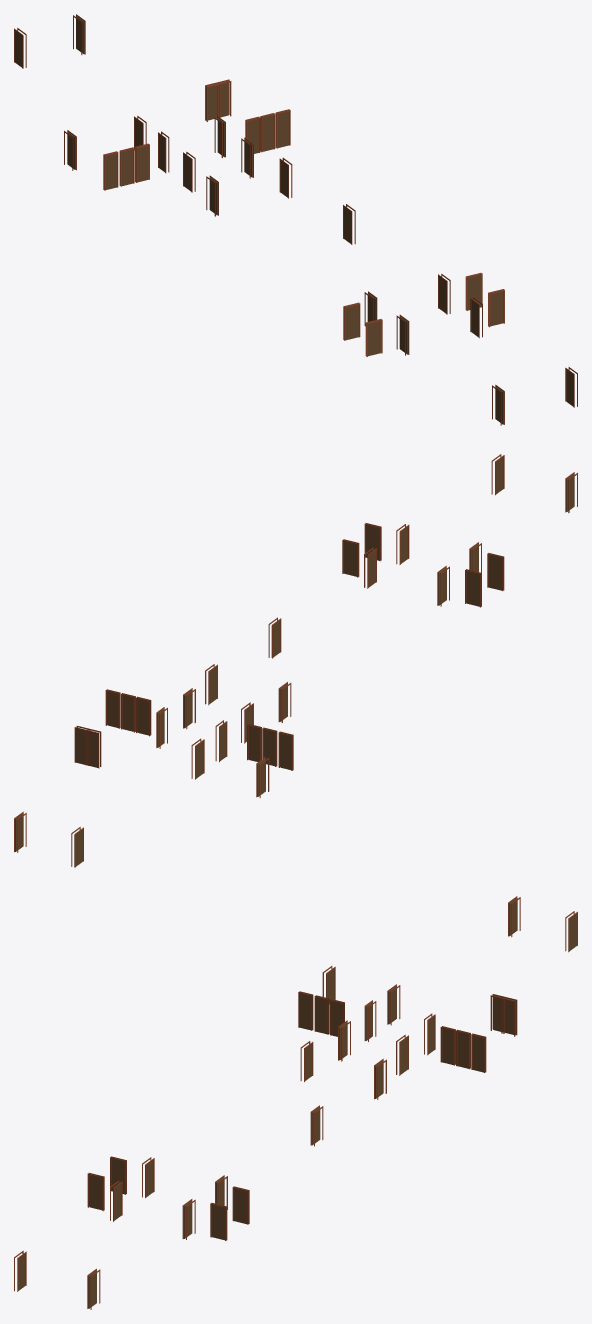
Rendered from insaat_revit.ifc.ifc.ifc.ifc_92.0 BLG Lab_IfcDoor.dae.
3 renders of one model, top to bottom at view 1: azimuth 30°, elevation 25°; view 2: azimuth 150°, elevation 25°; view 3: azimuth 330°, elevation 25°, orthographic.
Parts seen in each view (by area): view 1: 0HUM3_Bvf6w9E2bbMrr12_, 0HUM3_Bvf6w9E2bbMrr12R, 0HUM3_Bvf6w9E2bbMrr1Cm, 0visTls$T1SvqlVsyIT9El, 0visTls$T1SvqlVsyIT8nV, 0visTls$T1SvqlVsyIT92l, 0visTls$T1SvqlVsyIT923, 0HUM3_Bvf6w9E2bbMrr1CU, 0visTls$T1SvqlVsyIT92U, 0visTls$T1SvqlVsyIT93y, 0visTls$T1SvqlVsyIT90G; view 2: 0HUM3_Bvf6w9E2bbMrr12R, 0HUM3_Bvf6w9E2bbMrr1CU, 0visTls$T1SvqlVsyIT93y, 0HUM3_Bvf6w9E2bbMrr12_, 0visTls$T1SvqlVsyIT92l, 0visTls$T1SvqlVsyIT9El, 0visTls$T1SvqlVsyIT8n4, 0visTls$T1SvqlVsyIT923, 0visTls$T1SvqlVsyIT8nV, 0HUM3_Bvf6w9E2bbMrr1Cm, 0visTls$T1SvqlVsyIT92U, 0visTls$T1SvqlVsyIT90G; view 3: 0HUM3_Bvf6w9E2bbMrr1CU, 0HUM3_Bvf6w9E2bbMrr12R, 0HUM3_Bvf6w9E2bbMrr1Cm, 0visTls$T1SvqlVsyIT923, 0visTls$T1SvqlVsyIT8n4, 0visTls$T1SvqlVsyIT90G, 0visTls$T1SvqlVsyIT92l, 0visTls$T1SvqlVsyIT9El, 0visTls$T1SvqlVsyIT8nV, 0visTls$T1SvqlVsyIT93y.
Boxes of the visible parts, x1,y1,x2,y2 form: 0HUM3_Bvf6w9E2bbMrr12_: (343,302,360,340); 0HUM3_Bvf6w9E2bbMrr12R: (365,319,382,356); 0HUM3_Bvf6w9E2bbMrr1Cm: (488,289,504,327); 0visTls$T1SvqlVsyIT9El: (275,109,290,148); 0visTls$T1SvqlVsyIT8nV: (260,113,275,152); 0visTls$T1SvqlVsyIT92l: (103,151,118,190); 0visTls$T1SvqlVsyIT923: (119,147,134,186); 0HUM3_Bvf6w9E2bbMrr1CU: (465,272,482,310); 0visTls$T1SvqlVsyIT92U: (135,143,149,182); 0visTls$T1SvqlVsyIT93y: (205,82,220,121); 0visTls$T1SvqlVsyIT90G: (216,79,231,118); 0HUM3_Bvf6w9E2bbMrr12R: (487,552,504,590); 0HUM3_Bvf6w9E2bbMrr1CU: (342,539,359,577); 0visTls$T1SvqlVsyIT93y: (85,728,101,768); 0HUM3_Bvf6w9E2bbMrr12_: (465,569,481,607); 0visTls$T1SvqlVsyIT92l: (278,731,293,770); 0visTls$T1SvqlVsyIT9El: (105,689,120,728); 0visTls$T1SvqlVsyIT8n4: (136,696,151,736); 0visTls$T1SvqlVsyIT923: (262,727,277,766); 0visTls$T1SvqlVsyIT8nV: (121,693,135,732); 0HUM3_Bvf6w9E2bbMrr1Cm: (364,523,381,561); 0visTls$T1SvqlVsyIT92U: (247,723,261,761); 0visTls$T1SvqlVsyIT90G: (74,725,90,765); 0HUM3_Bvf6w9E2bbMrr1CU: (232,1186,249,1224); 0HUM3_Bvf6w9E2bbMrr12R: (87,1173,104,1211); 0HUM3_Bvf6w9E2bbMrr1Cm: (210,1202,227,1240); 0visTls$T1SvqlVsyIT923: (314,995,329,1034); 0visTls$T1SvqlVsyIT8n4: (440,1026,455,1065); 0visTls$T1SvqlVsyIT90G: (501,996,517,1036); 0visTls$T1SvqlVsyIT92l: (298,991,313,1030); 0visTls$T1SvqlVsyIT9El: (471,1033,486,1072); 0visTls$T1SvqlVsyIT8nV: (456,1029,470,1069); 0visTls$T1SvqlVsyIT93y: (490,994,506,1033).
Size of the model in its own units: 12.42 by 56.06 by 2.21.
